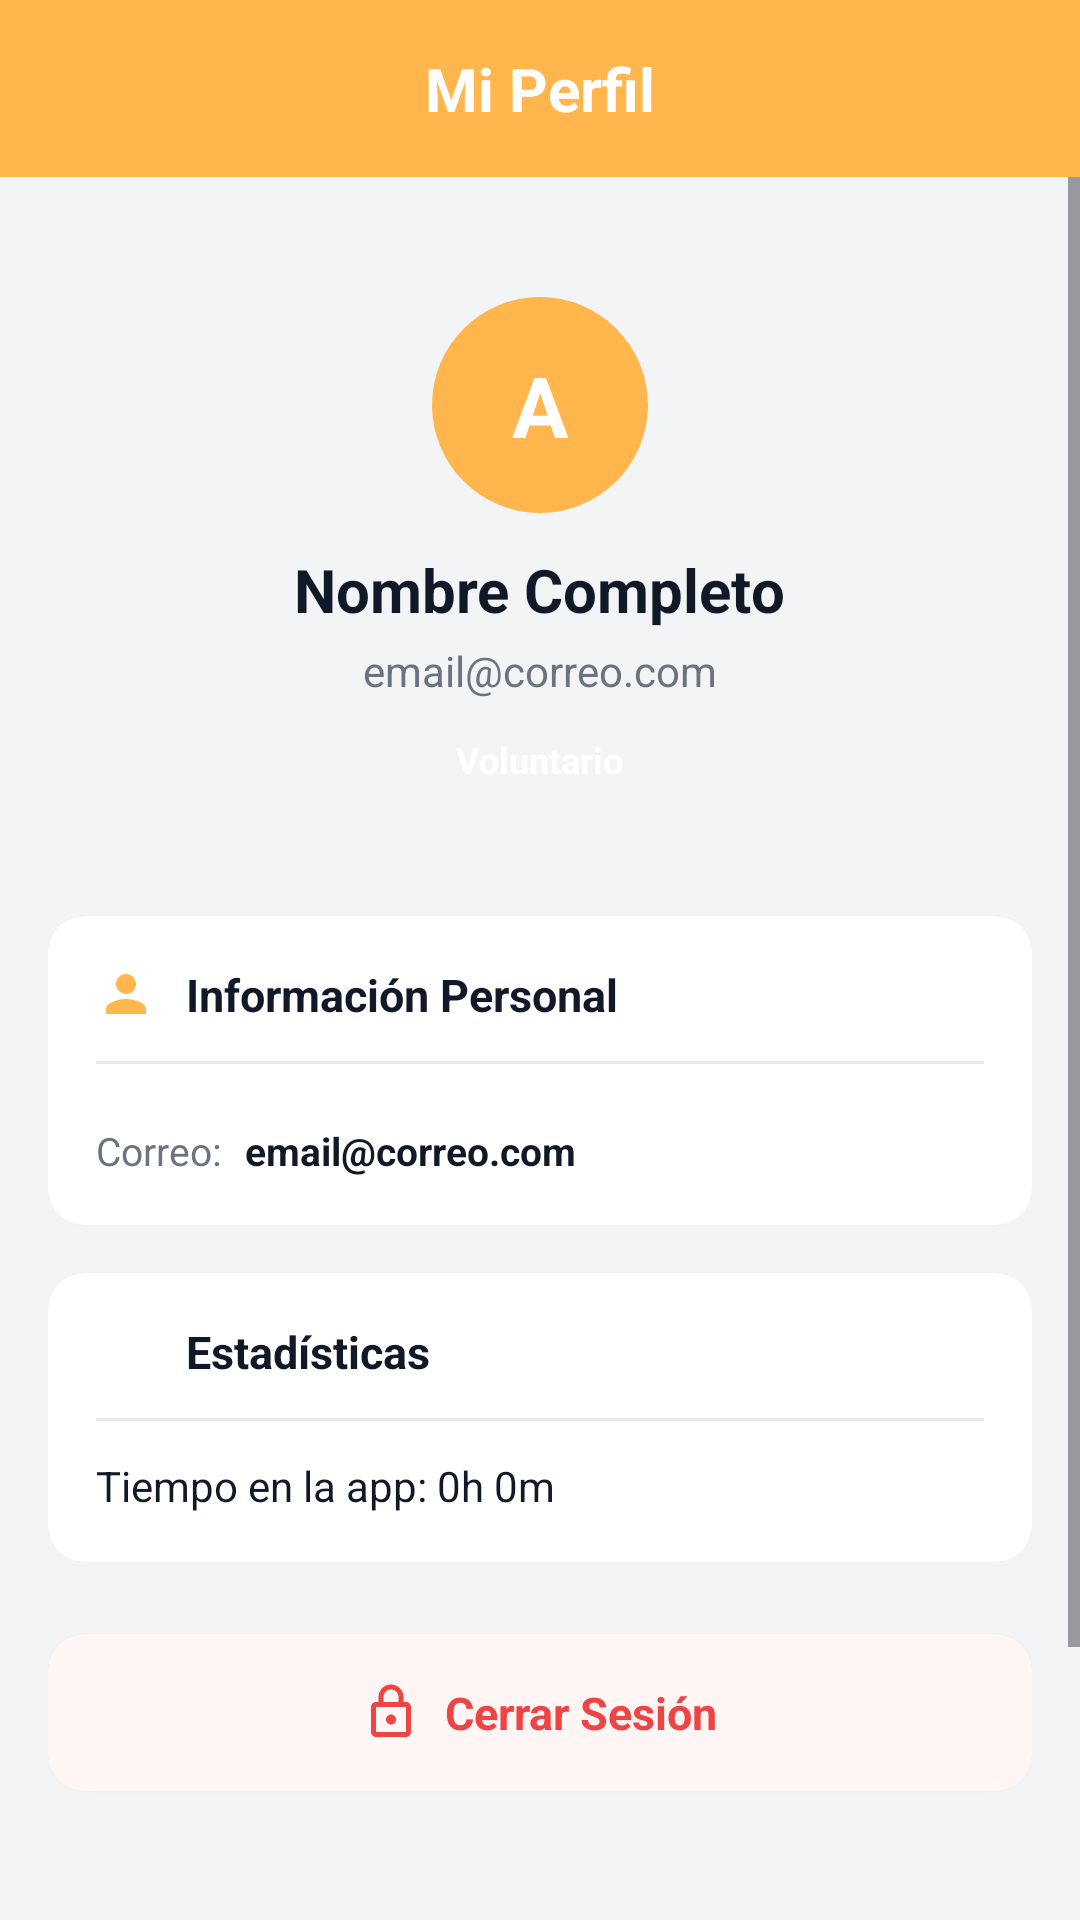

Icons on this 1080 x 1920 Android screen, each with its box as (x1, y1, x2, y2):
lock: (371, 1684, 411, 1737)
user: (106, 974, 146, 1014)
